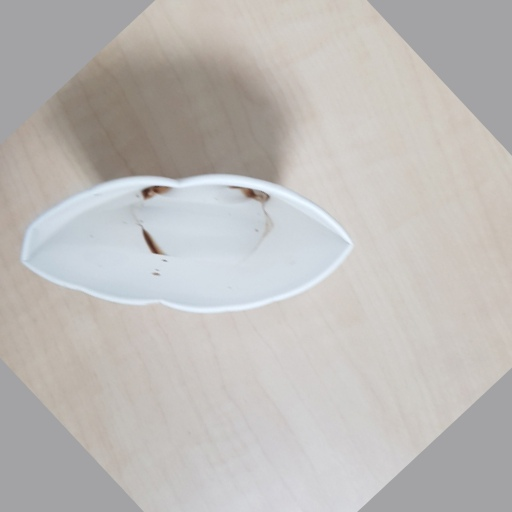Paper_1: (17, 169, 352, 313)
